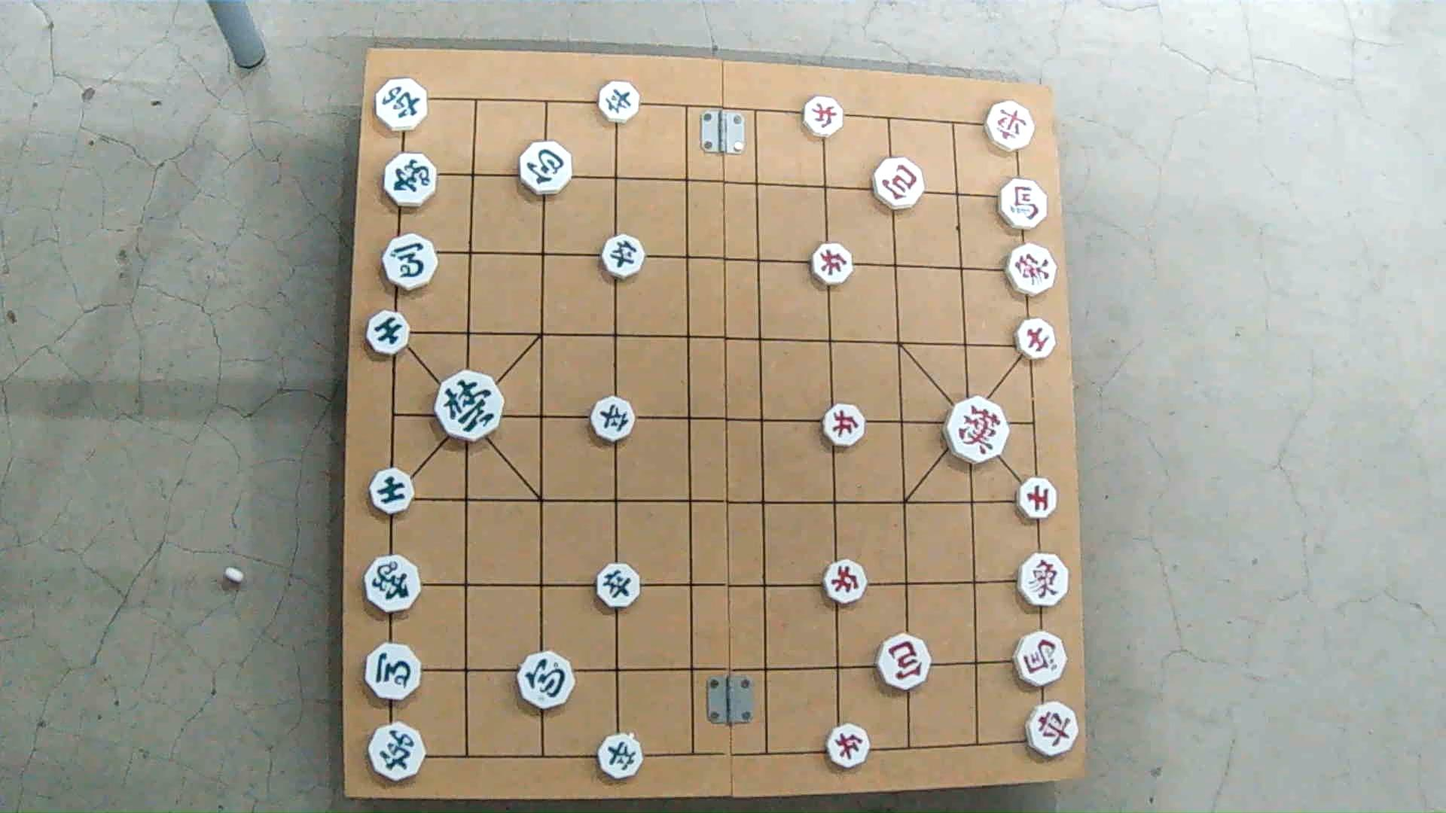cha_green: (370, 723, 428, 782), (376, 79, 429, 131)
cha_red: (1028, 700, 1078, 754), (985, 101, 1033, 152)
jol_green: (596, 731, 643, 780), (590, 397, 636, 440), (598, 565, 642, 609), (602, 234, 648, 275), (598, 82, 642, 123)
jol_red: (822, 560, 866, 602), (825, 724, 868, 766), (818, 404, 862, 445), (810, 243, 853, 283), (802, 98, 844, 138)
ma_green: (366, 641, 424, 699), (383, 235, 438, 287)
ma_red: (1015, 629, 1065, 684), (999, 179, 1049, 228)
po_green: (516, 648, 572, 708), (522, 144, 575, 195)
po_red: (876, 637, 930, 690), (871, 159, 922, 209)
sa_green: (367, 313, 413, 356), (370, 470, 413, 514)
sa_red: (1019, 477, 1060, 521), (1015, 318, 1058, 358)
sang_green: (365, 557, 422, 611), (384, 151, 438, 205)
sang_red: (1014, 556, 1069, 607), (1009, 242, 1057, 292)
wang_green: (435, 373, 505, 438)
wang_red: (946, 398, 1011, 460)
